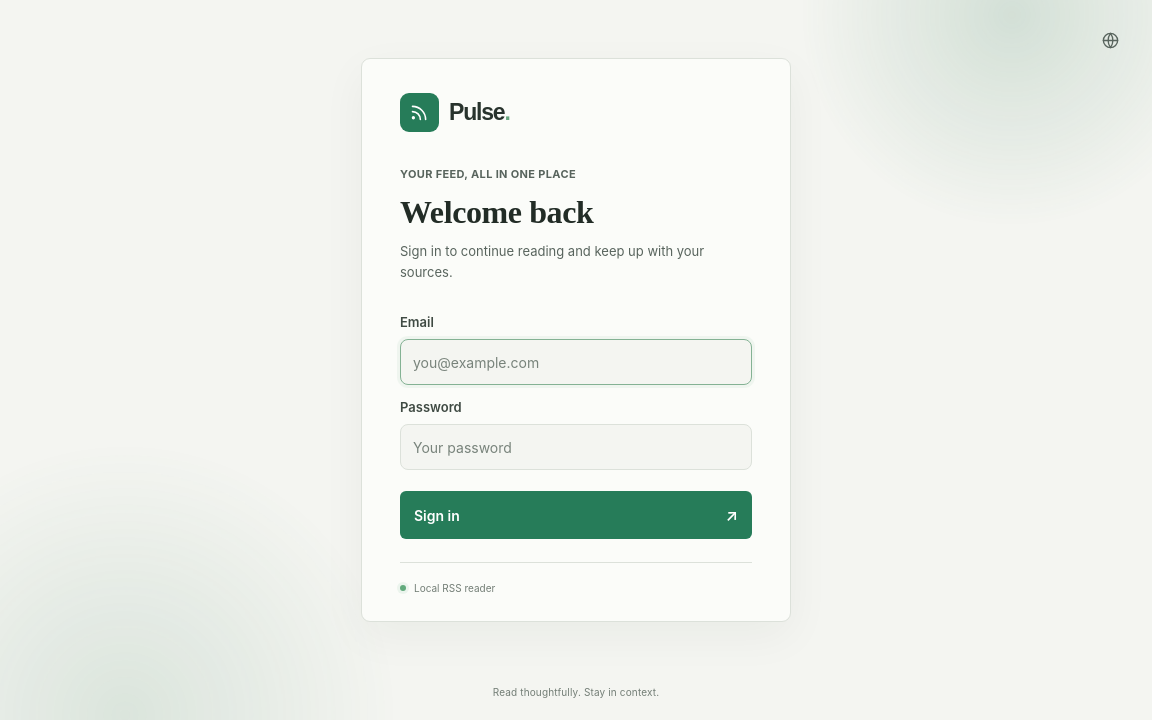
Test case: SignIn › submits email and password and shows authentication errors
Type "reader@example.com" into the field labelled "Email" at x=576, y=362, box left=400, top=340, right=752, bottom=386
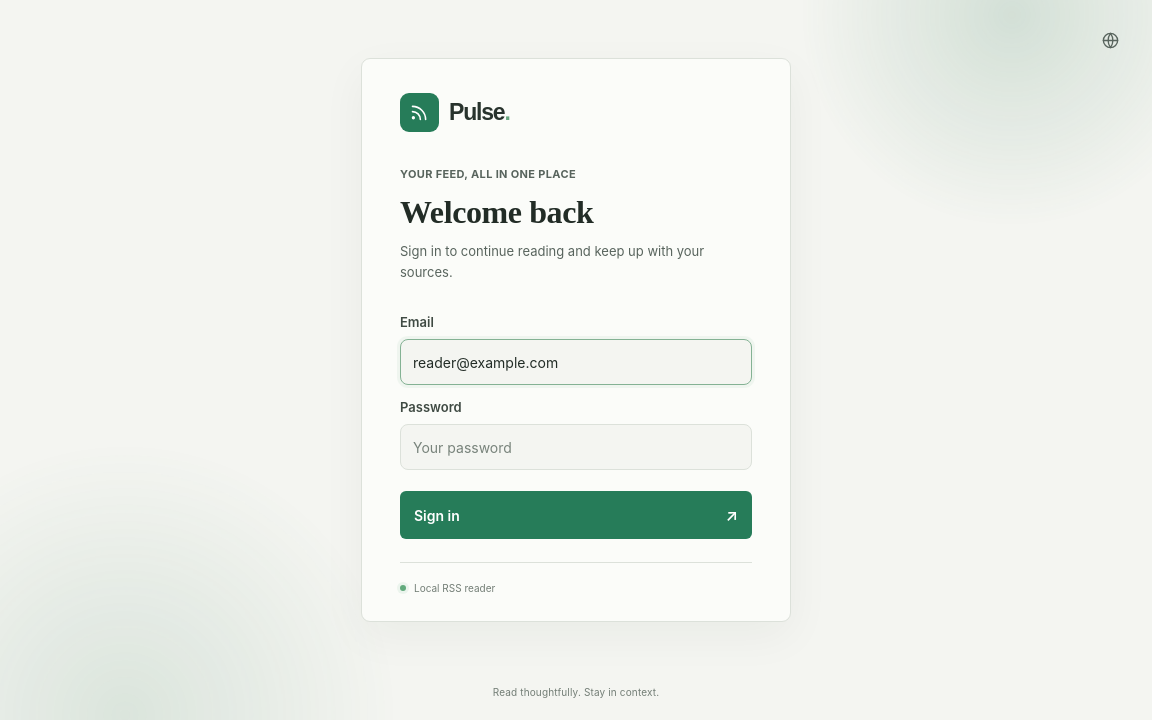
Type "a-long-password" into the password field labelled "Password" at x=576, y=448, box left=400, top=424, right=752, bottom=470
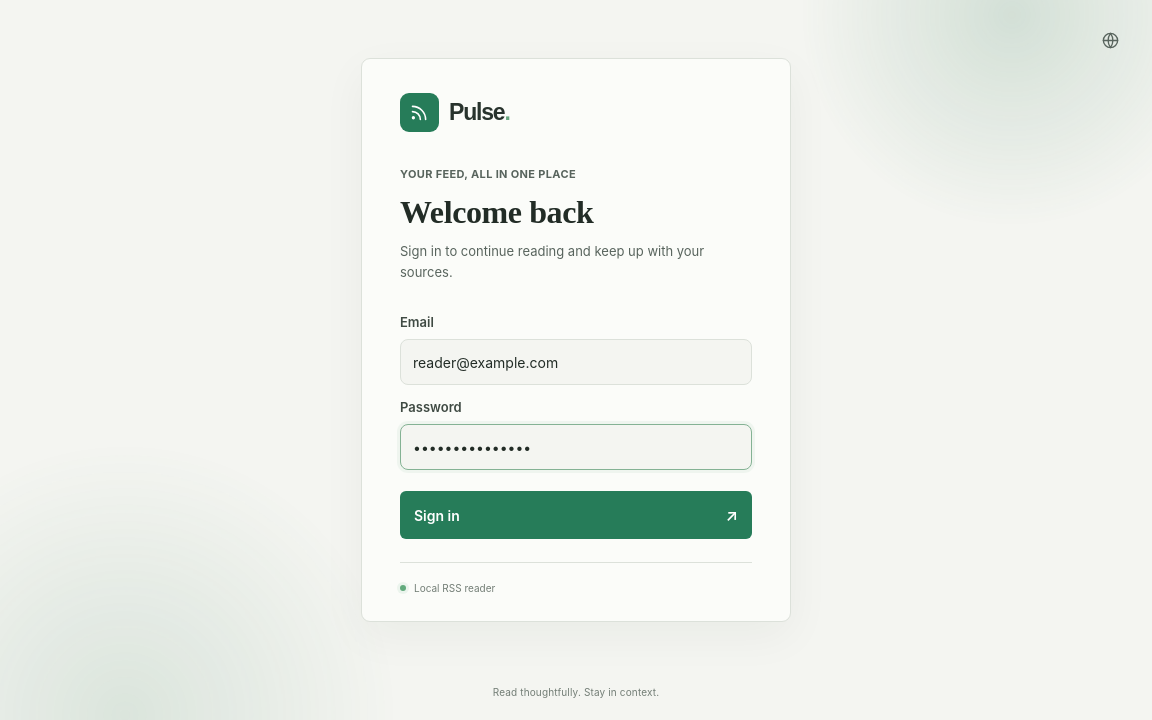
Click the button "Sign in ↗" at x=437, y=515, box left=400, top=492, right=752, bottom=540
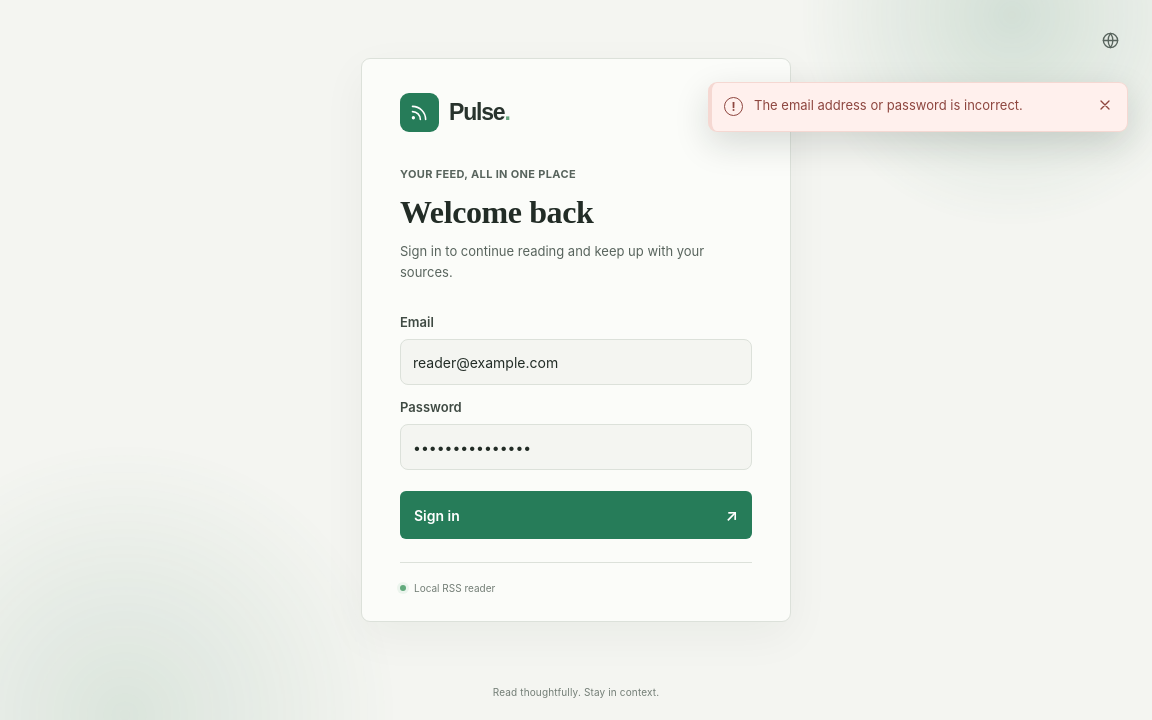
Result: the message shows "The email address or password is incorrect." at left=754, top=97, right=1023, bottom=113
